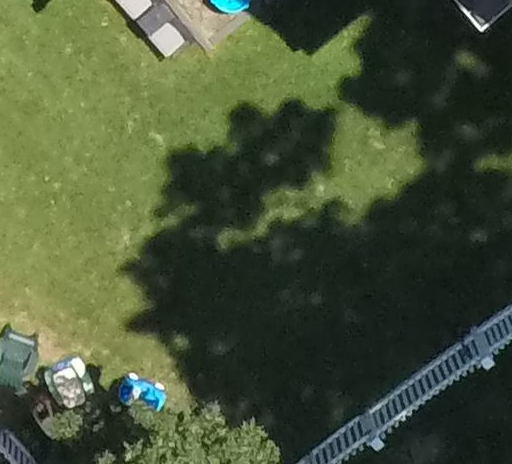toy: (113, 360, 164, 407)
